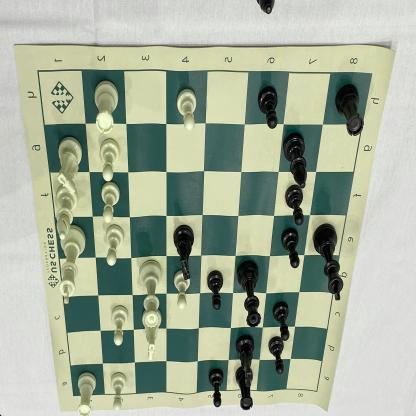black-bishop: (280, 132, 310, 189)
black-king: (311, 222, 345, 306)
black-knight: (172, 222, 196, 282), (235, 332, 256, 389)
black-pawn: (254, 84, 278, 132), (280, 226, 303, 271), (284, 183, 306, 228), (271, 300, 291, 344), (267, 334, 286, 378), (206, 366, 225, 410), (207, 269, 226, 313)
black-queen: (237, 257, 262, 331)
black-rook: (332, 83, 366, 139), (235, 365, 255, 413)
white-bishop: (52, 184, 79, 242)
white-king: (56, 225, 86, 305)
white-knight: (52, 135, 83, 195), (141, 310, 163, 364)
white-pawn: (101, 224, 126, 268), (176, 84, 198, 134), (98, 137, 122, 182), (98, 181, 121, 224), (172, 269, 192, 313), (109, 370, 129, 414), (110, 304, 130, 348)
white-queen: (138, 258, 165, 329)
white-rook: (92, 81, 119, 136), (73, 370, 98, 416)
